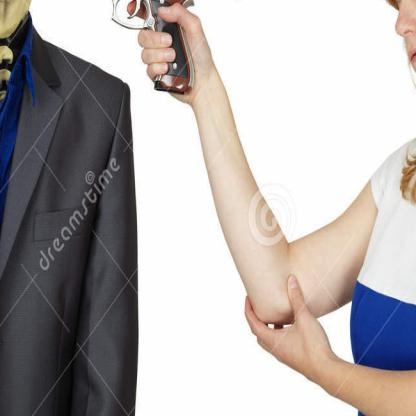gun: (51, 0, 197, 94)
